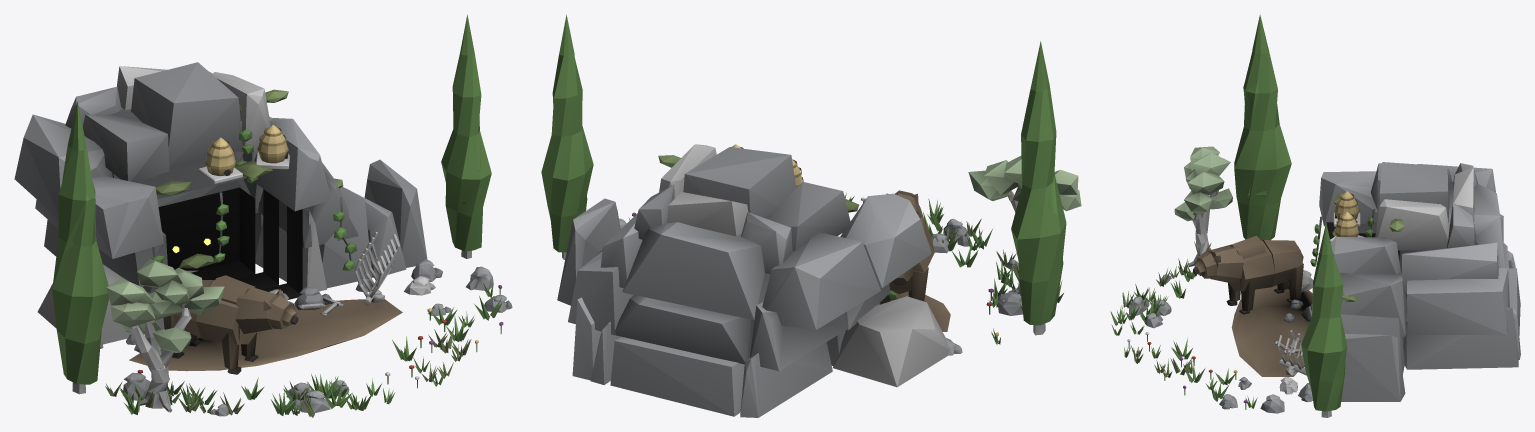
File: bear-cave-l1.glb
3 views of the same model, side by side, from view 1: azimuth 30°, elevation 25°; view 2: azimuth 150°, elevation 25°; view 3: azimuth 270°, elevation 25° (orthographic). The views are drawn at different scales.
Parts seen in each view (by area): view 1: bear-cave-l1; view 2: bear-cave-l1; view 3: bear-cave-l1.
Part boxes in pixels (bbox=[...]): bear-cave-l1: bbox=[14, 14, 512, 417]; bear-cave-l1: bbox=[541, 14, 1081, 417]; bear-cave-l1: bbox=[1110, 14, 1520, 417].
Bounding box in the file's own units: 1.71 × 1.02 × 1.6.
